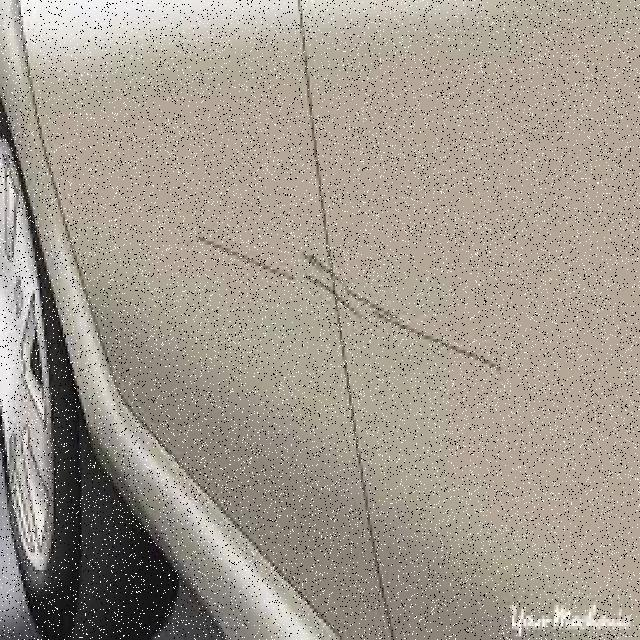doorouter-dent: (305, 0, 638, 605), (37, 0, 307, 591)
